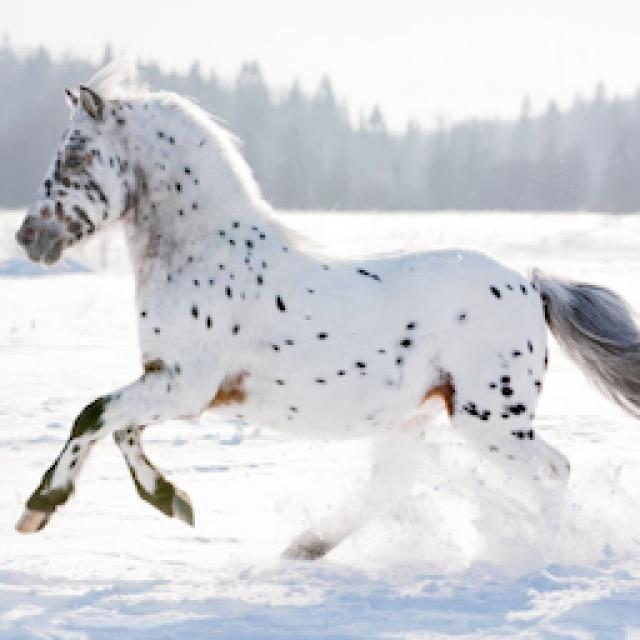Horse: (0, 62, 638, 572)
